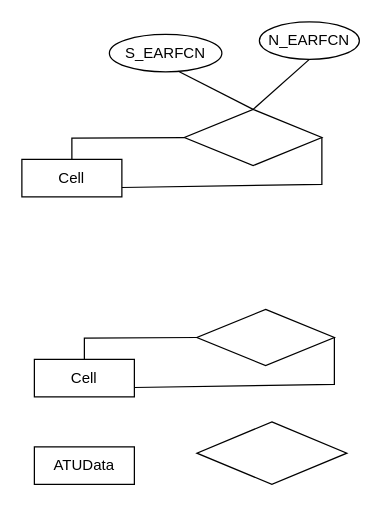
Some shapes in this 381 by 506 pixel diagram are drawn without their labels. Here are the shapes that lost their labels. From the top down, the centre of each, then its label:
point (252, 137): AdjCell
point (265, 337): SecAdjCell
point (271, 452): C2I干扰ATUC2I
